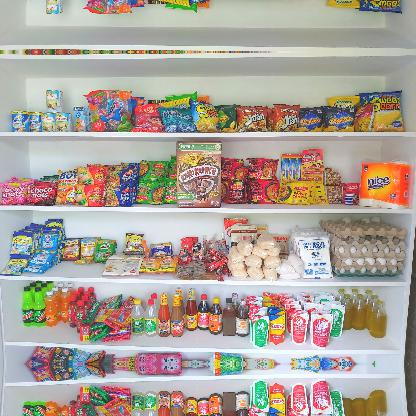Koko-Krunch: (176, 141, 222, 207)
